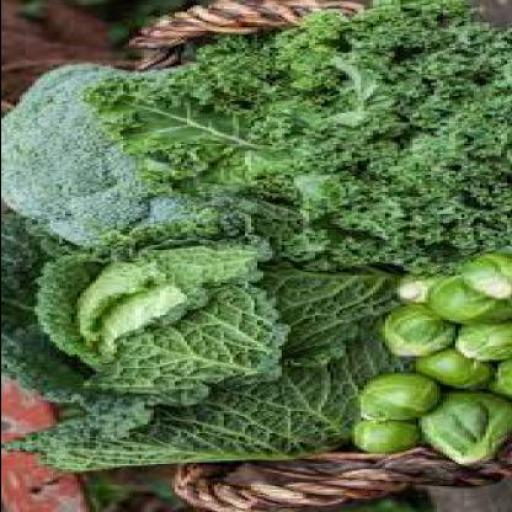biodegradable: (76, 2, 509, 281), (2, 216, 396, 472), (1, 64, 244, 251), (414, 391, 509, 466), (356, 372, 442, 424), (424, 278, 510, 326), (382, 306, 448, 360), (408, 349, 488, 392), (348, 416, 418, 454), (448, 324, 510, 363), (457, 257, 509, 302), (393, 274, 439, 306), (484, 361, 509, 406)
